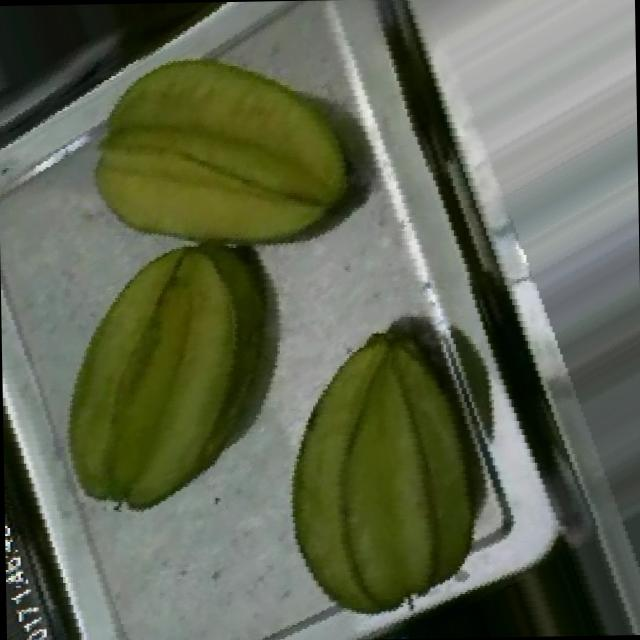fruit: (8, 203, 314, 552), (59, 2, 384, 320), (232, 302, 521, 640)
